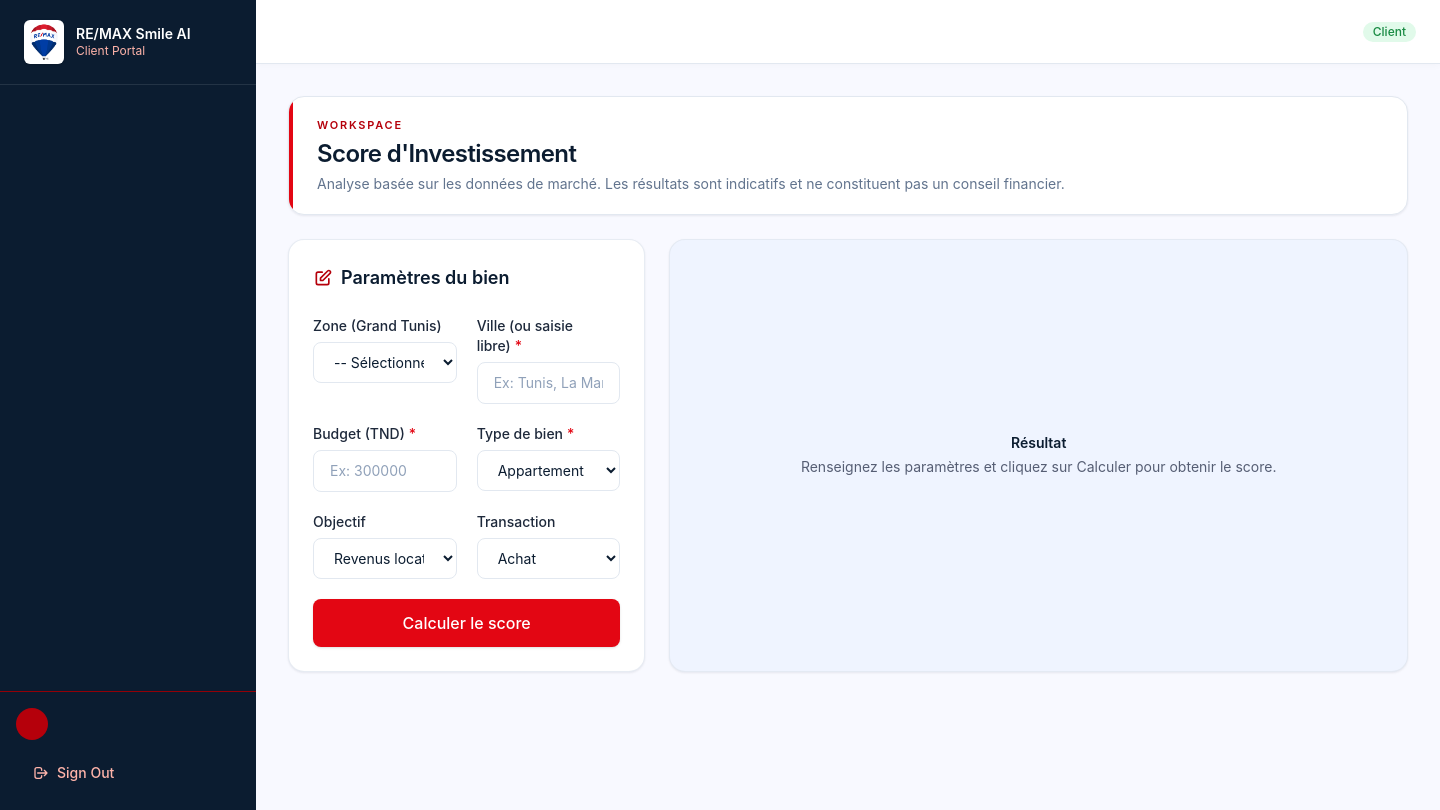
Test: InvestmentScorePage › submits the form and displays the score, grade, and metrics
Type "Tunis" into the field labelled "Ville" at (549, 382), box [477,362,620,404]
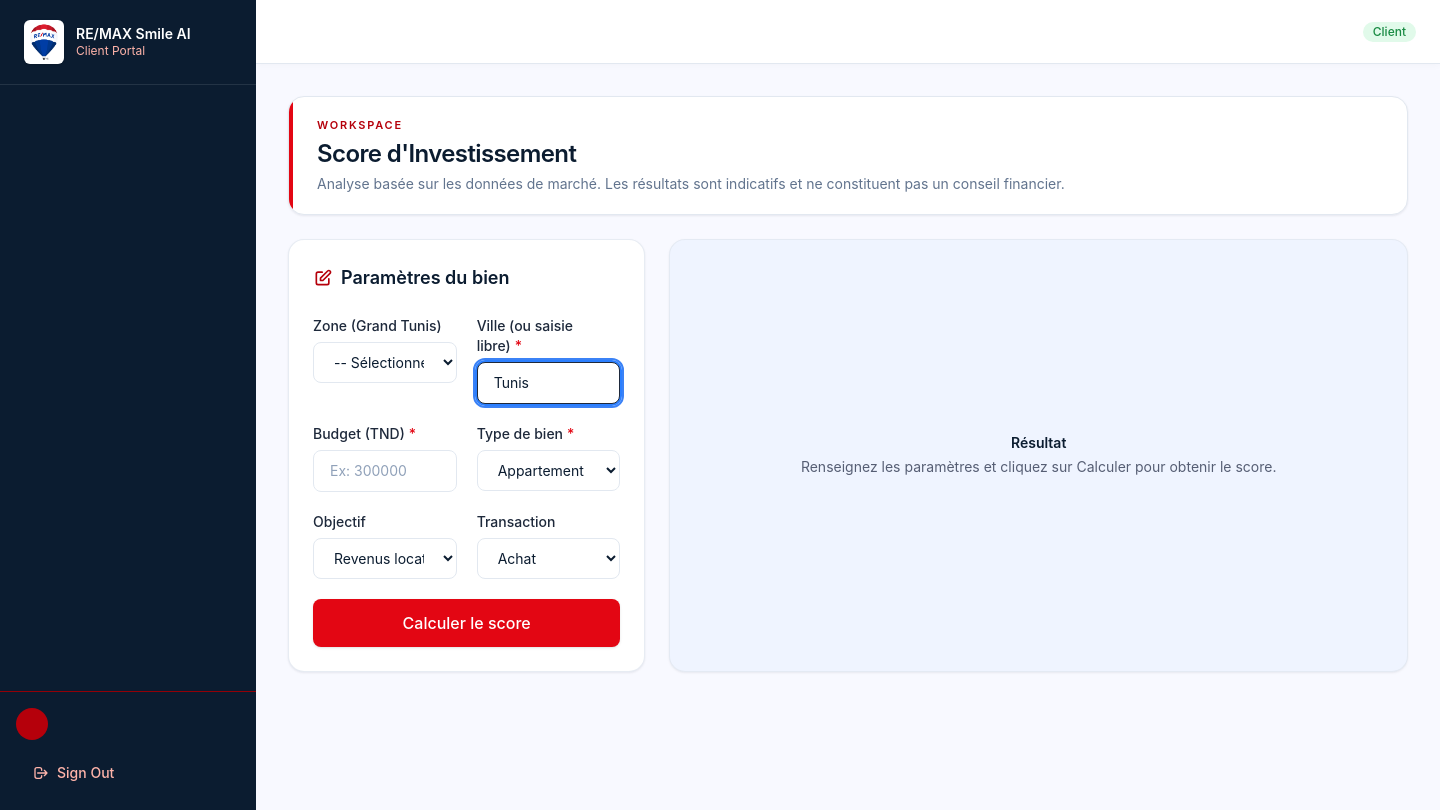
Type "300000" into the number field named "Budget en TND" at (385, 470), box [313,450,457,492]
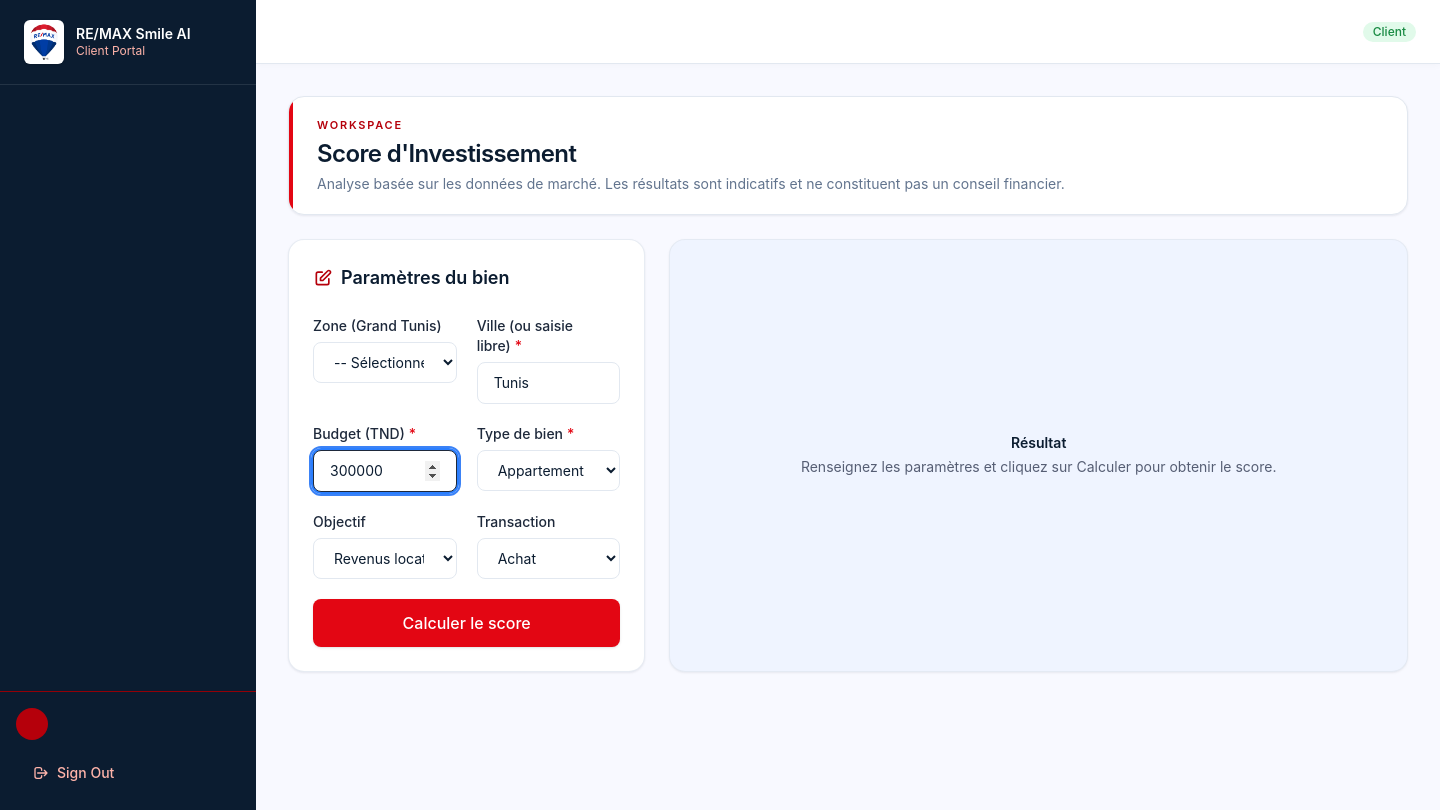
Click the button "Calculer le score" at (467, 622), box [313,598,620,646]
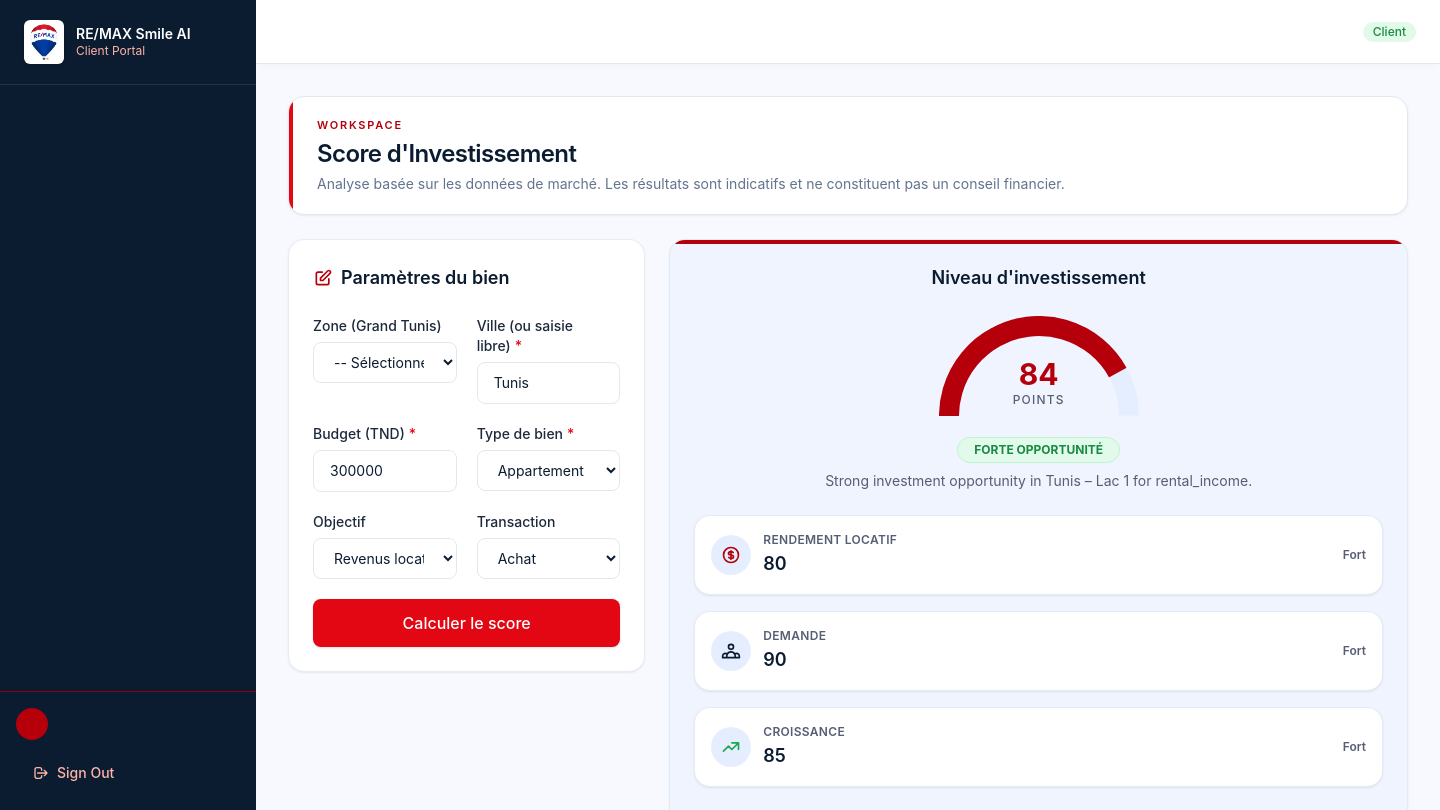
expect the text "84" is shown: met, box [1019,356,1058,392]
expect the text "FORTE OPPORTUNITÉ" is shown: met, box [957,436,1120,462]
expect the text "Rendement locatif" is shown: met, box [763,532,897,548]
